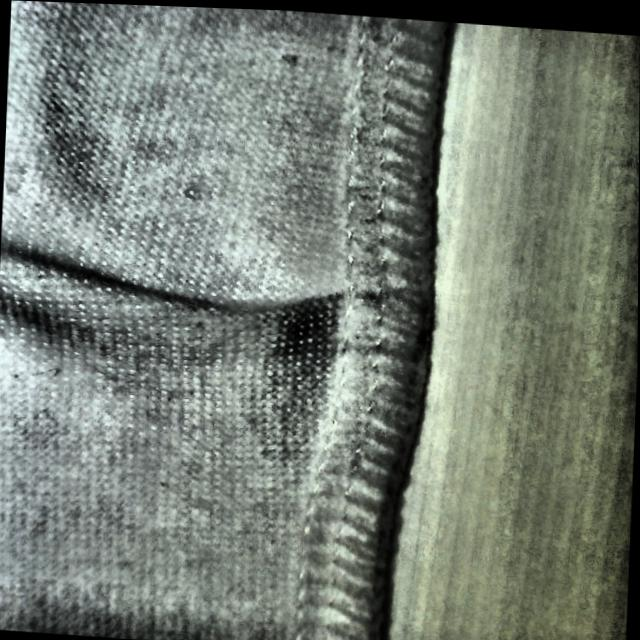seam: (120, 224, 437, 390)
